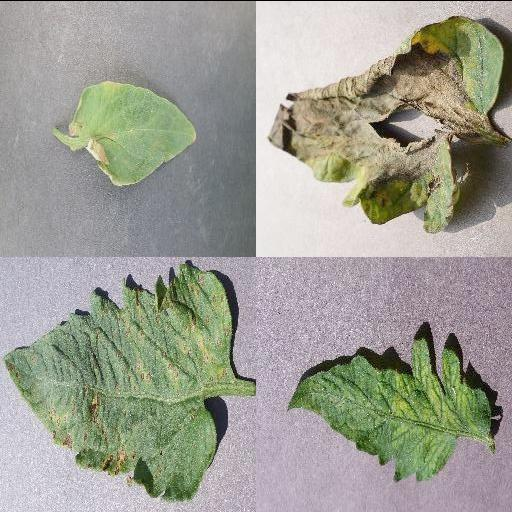Late Blight: (267, 14, 501, 232), (67, 79, 201, 187)
Mosaic Virus: (285, 339, 491, 481)
Septoria: (3, 264, 233, 498)
